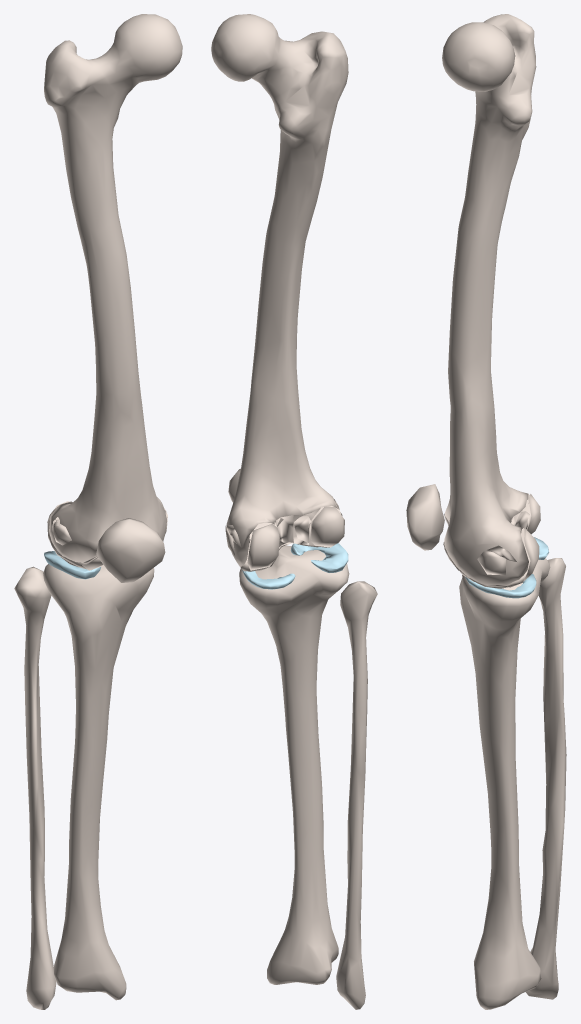
File: 3d-vh-f-knee-r_lod_20.glb
3 renders of one model, left to right at view 1: azimuth 30°, elevation 25°; view 2: azimuth 210°, elevation 25°; view 3: azimuth 270°, elevation 25°, orthographic. The views are drawn at different scales.
Parts seen in each view (by area): view 1: VH_F_femur_R, VH_F_tibia_R, VH_F_fibula_R, VH_F_patella_R, VH_F_meniscus_R; view 2: VH_F_femur_R, VH_F_tibia_R, VH_F_fibula_R, VH_F_meniscus_R, VH_F_medial_condyle_of_right_femur_inf, VH_F_lateral_condyle_of_femur_inf_R, VH_F_articular_cartilage_of_knee_R, VH_F_posterior_cruciate_enthesis_R; view 3: VH_F_femur_R, VH_F_tibia_R, VH_F_fibula_R, VH_F_patella_R, VH_F_meniscus_R, VH_F_medial_perichondular_surface_R, VH_F_articular_cartilage_of_knee_R, VH_F_medial_condyle_of_right_femur_inf.
Part boxes in pixels (<box>): VH_F_femur_R: <box>44,14,182,562</box>; VH_F_tibia_R: <box>43,564,154,1000</box>; VH_F_fibula_R: <box>14,566,56,1009</box>; VH_F_patella_R: <box>96,518,165,582</box>; VH_F_meniscus_R: <box>44,551,100,579</box>; VH_F_femur_R: <box>211,14,348,567</box>; VH_F_tibia_R: <box>239,545,349,984</box>; VH_F_fibula_R: <box>336,581,377,1009</box>; VH_F_meniscus_R: <box>242,543,348,589</box>; VH_F_medial_condyle_of_right_femur_inf: <box>247,523,279,570</box>; VH_F_lateral_condyle_of_femur_inf_R: <box>311,506,344,547</box>; VH_F_articular_cartilage_of_knee_R: <box>240,506,341,571</box>; VH_F_posterior_cruciate_enthesis_R: <box>276,515,293,546</box>; VH_F_femur_R: <box>442,14,536,585</box>; VH_F_tibia_R: <box>459,558,550,1009</box>; VH_F_fibula_R: <box>526,558,566,999</box>; VH_F_patella_R: <box>406,484,444,550</box>; VH_F_meniscus_R: <box>465,537,548,598</box>; VH_F_medial_perichondular_surface_R: <box>477,551,505,575</box>; VH_F_articular_cartilage_of_knee_R: <box>443,493,531,587</box>; VH_F_medial_condyle_of_right_femur_inf: <box>523,528,539,581</box>.
Size of the model in its own units: 0.1015 by 0.772 by 0.1106.
